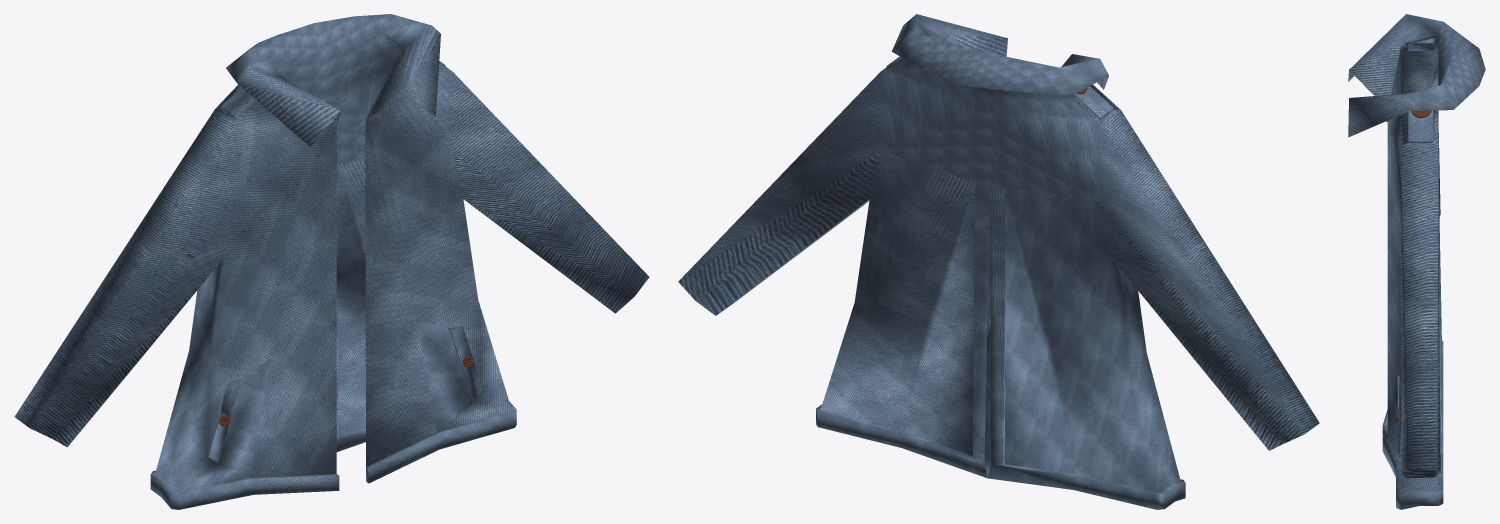
Rendered from Casaco.gltf.
3 views of the same model, side by side, from view 1: azimuth 30°, elevation 25°; view 2: azimuth 150°, elevation 25°; view 3: azimuth 270°, elevation 25° (orthographic). The views are drawn at different scales.
Parts seen in each view (by area): view 1: Casaco; view 2: Casaco; view 3: Casaco.
Part boxes in pixels (x1=…): Casaco: x1=14, y1=14, x2=649, y2=509; Casaco: x1=678, y1=14, x2=1319, y2=509; Casaco: x1=1348, y1=14, x2=1485, y2=509.
Bounding box in the file's own units: 74.47 × 49.95 × 15.75.
Materials: 5 (1 with a texture image).
